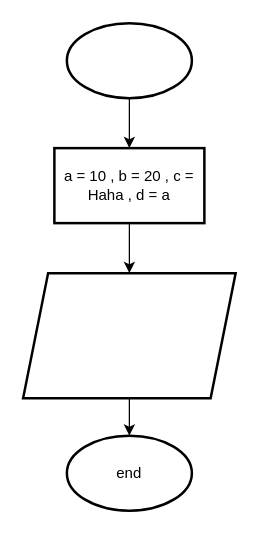
This 258x533 diagram has some shape labels left out. Here are the shapes that lost their labels. From the top down, the centre of each, then its label:
At point 128,60: "start".
At point 128,335: "แสดงค่า 10 20.0 Haha a".
